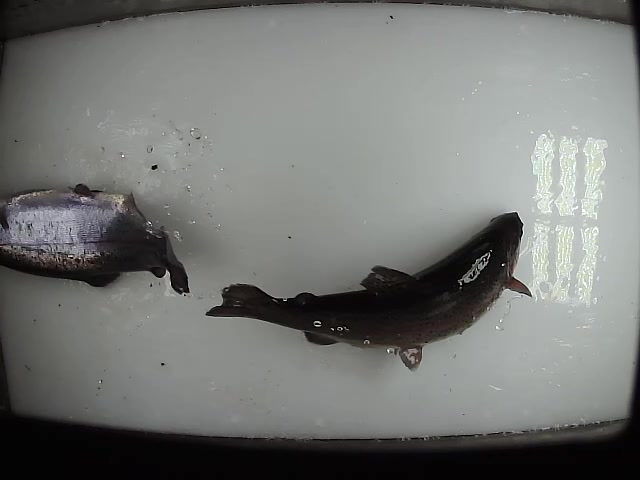fish: (202, 206, 539, 372), (1, 178, 192, 298)
